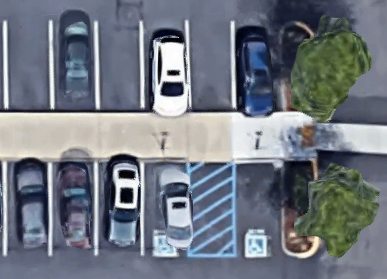Occupied: (142, 158, 189, 256), (233, 20, 283, 112), (3, 159, 50, 256), (96, 159, 143, 256), (50, 159, 96, 256), (141, 20, 189, 112), (50, 19, 96, 111)
Vacant: (234, 162, 282, 256), (4, 19, 51, 111), (96, 19, 142, 113), (187, 20, 233, 112)
